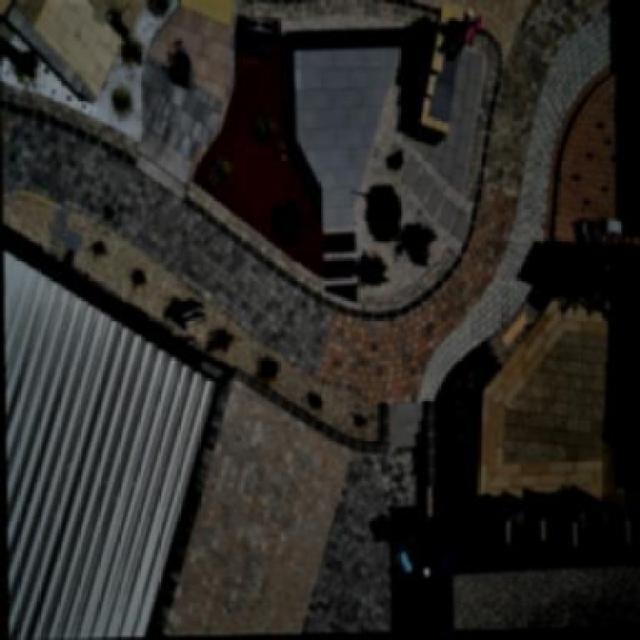Person: (441, 2, 492, 64)
